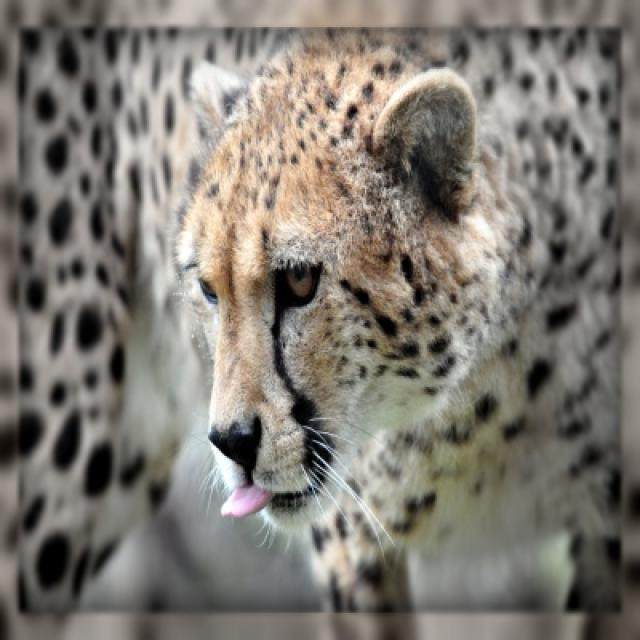Cheetah: (176, 22, 638, 611)
